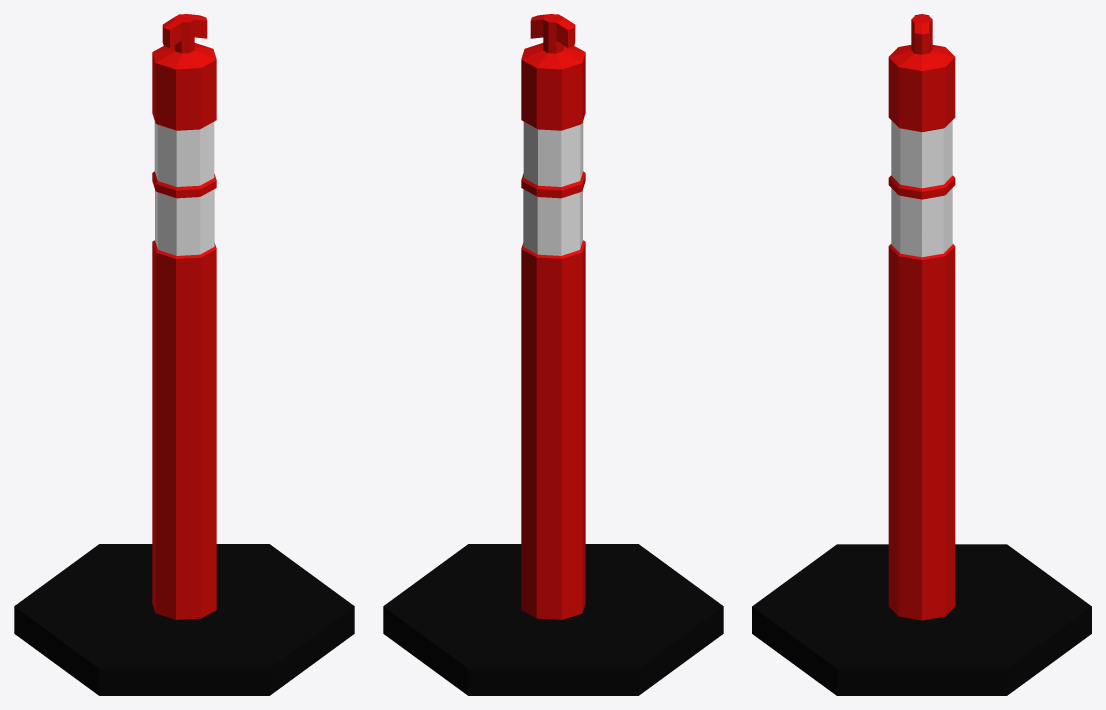
File: Pembatas 1.fbx
The picture shows the model from 3 angles, left to right: view 1: azimuth 30°, elevation 25°; view 2: azimuth 150°, elevation 25°; view 3: azimuth 270°, elevation 25°; orthographic projection.
Parts seen in each view (by area): view 1: Pembatas; view 2: Pembatas; view 3: Pembatas.
Boxes of the visible parts, <box> form: Pembatas: <box>14,14,354,695</box>; Pembatas: <box>383,14,723,695</box>; Pembatas: <box>752,14,1091,695</box>.
Bounding box in the file's own units: 38.96 × 89.7 × 44.99.
